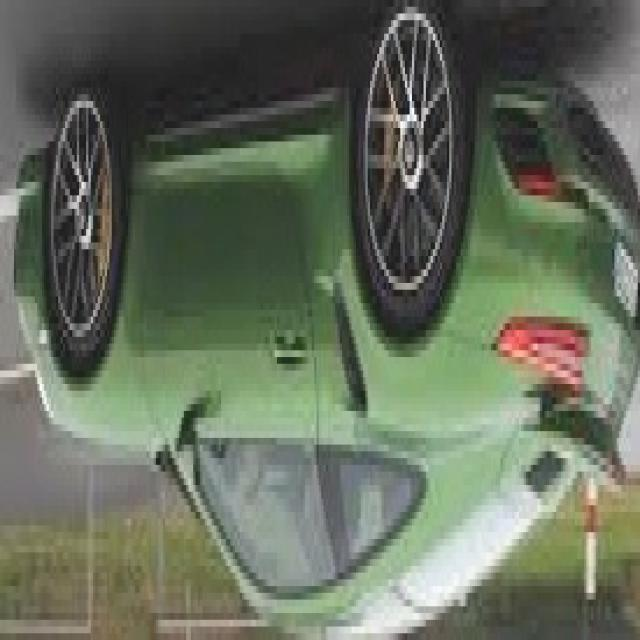green: (12, 4, 640, 634)
